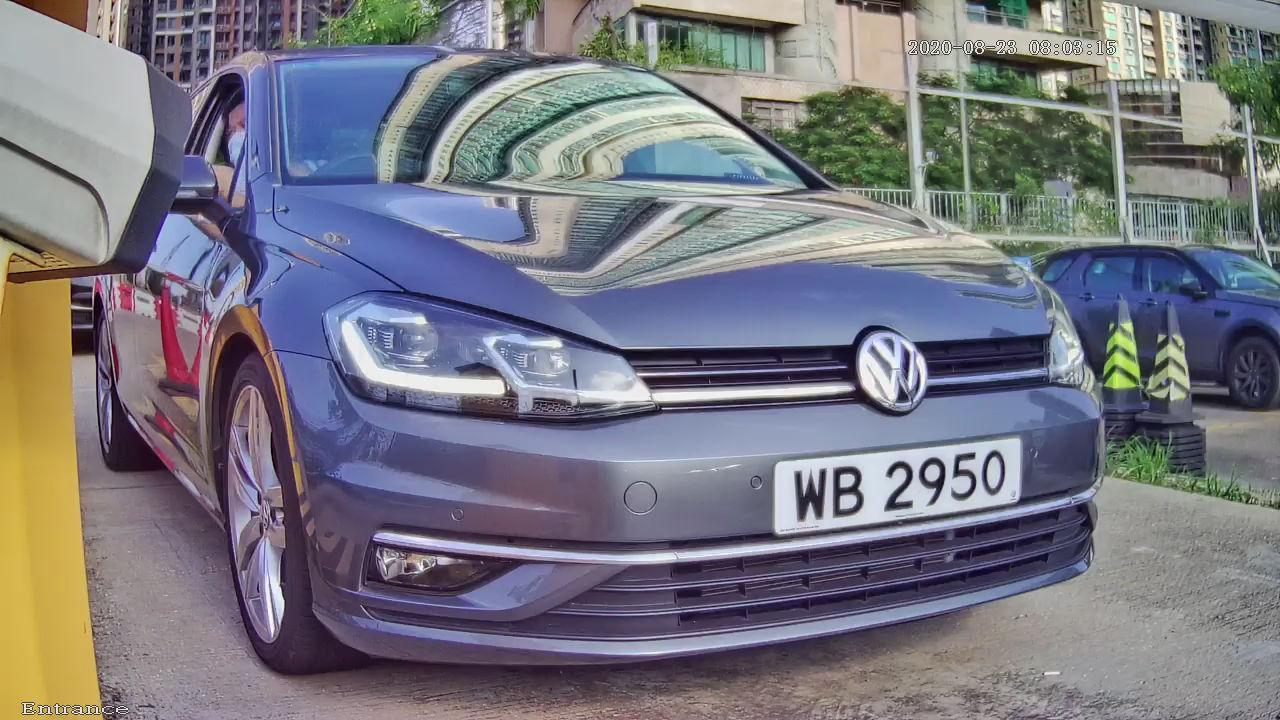Car: (23, 7, 1218, 711)
License Plate: (766, 434, 1029, 541)
